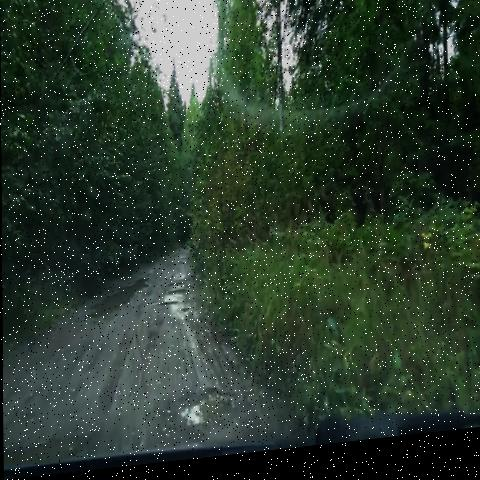pothole: (2, 415, 102, 467), (167, 382, 240, 447), (81, 268, 149, 333), (150, 295, 180, 321), (165, 286, 187, 308), (163, 274, 185, 295), (179, 306, 192, 327)
